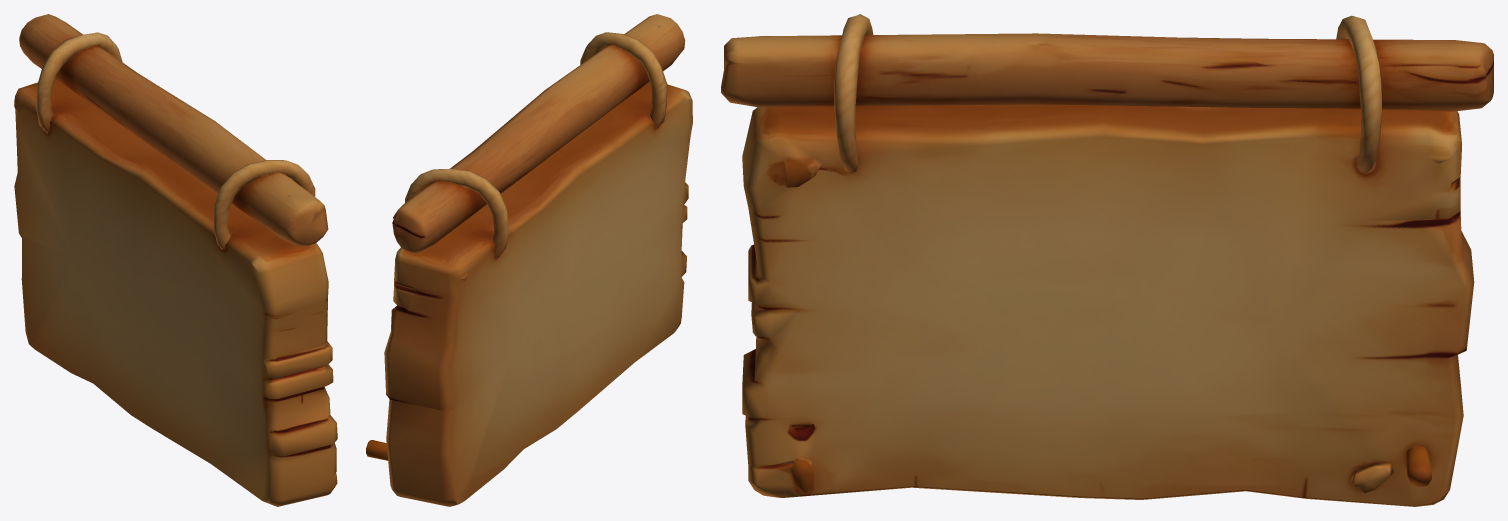
3 renders of one model, left to right at view 1: azimuth 30°, elevation 25°; view 2: azimuth 150°, elevation 25°; view 3: azimuth 270°, elevation 25°, orthographic. The views are drawn at different scales.
Parts seen in each view (by area): view 1: tripo_node_001e493d-4946-427e-8fe5-7fcda7167f0b; view 2: tripo_node_001e493d-4946-427e-8fe5-7fcda7167f0b; view 3: tripo_node_001e493d-4946-427e-8fe5-7fcda7167f0b.
Boxes of the visible parts, box(x1,y1,x2,y2) form: tripo_node_001e493d-4946-427e-8fe5-7fcda7167f0b: box(14, 14, 337, 506); tripo_node_001e493d-4946-427e-8fe5-7fcda7167f0b: box(366, 14, 692, 506); tripo_node_001e493d-4946-427e-8fe5-7fcda7167f0b: box(721, 14, 1493, 506).
Bounding box in the file's own units: 0.2441 × 0.666 × 0.998.
Materials: 1 (1 with a texture image).
